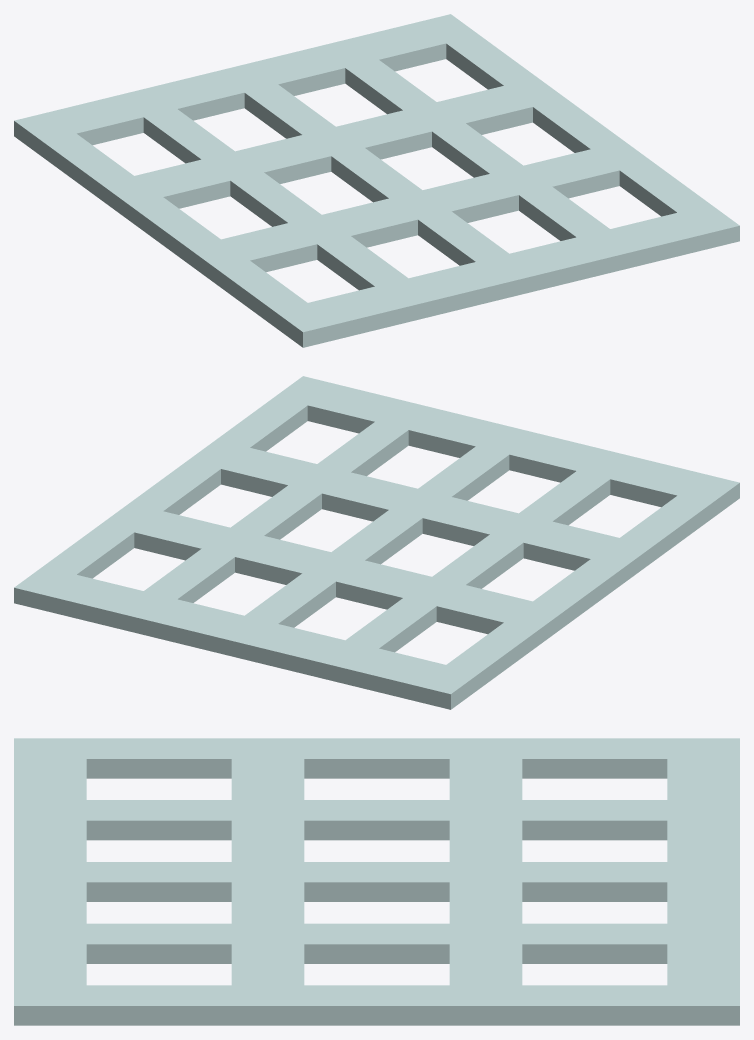
The model's file is cieling.fbx.
3 views of the same model, one above another, from view 1: azimuth 30°, elevation 25°; view 2: azimuth 150°, elevation 25°; view 3: azimuth 270°, elevation 25° (orthographic). The views are drawn at different scales.
Parts seen in each view (by area): view 1: CIELING; view 2: CIELING; view 3: CIELING.
Part boxes in pixels (x1,y1,x2,y2): CIELING: [14, 14, 739, 347]; CIELING: [14, 376, 739, 709]; CIELING: [14, 738, 739, 1025].
Size of the model in its own units: 2925 by 100 by 3353.
